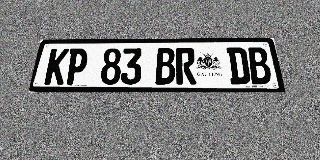3: (120, 48, 142, 84)
8: (100, 48, 123, 84)
B: (246, 47, 273, 84), (155, 48, 175, 84)
D: (226, 47, 251, 84)
K: (44, 49, 70, 85)
P: (64, 48, 89, 84)
R: (176, 48, 197, 84)
